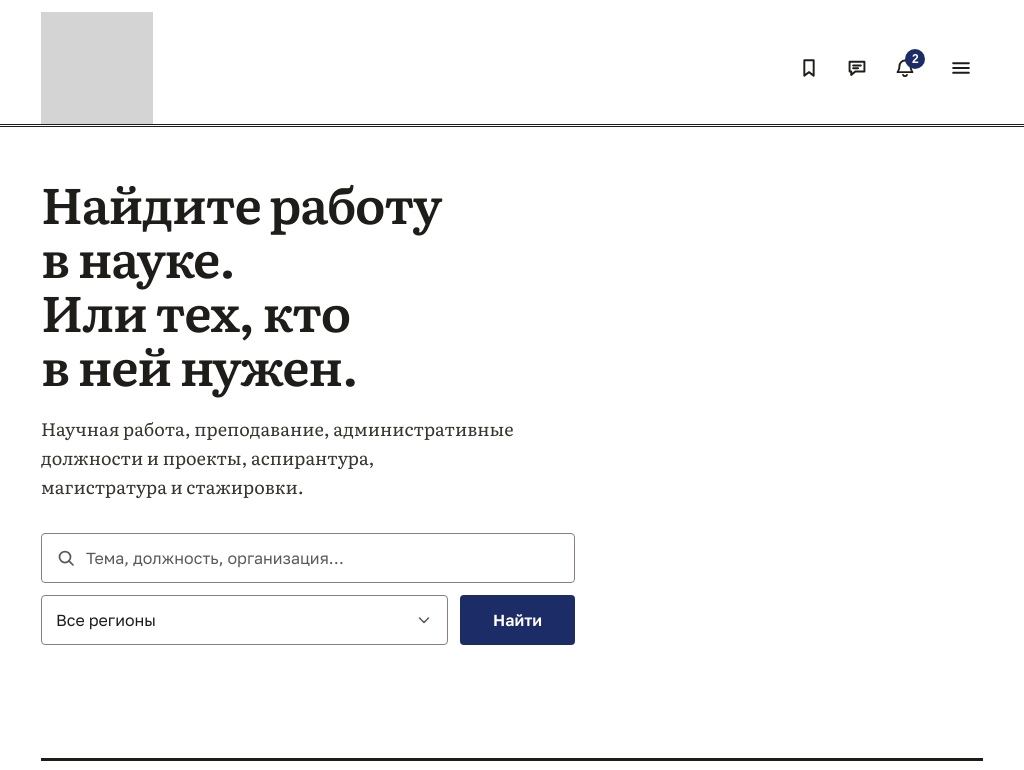
Scenario: bell in the header › reports a failed load inside the panel
Click the button named "непрочитанных" at (905, 68), box x1=883 y1=46 x2=927 y2=90
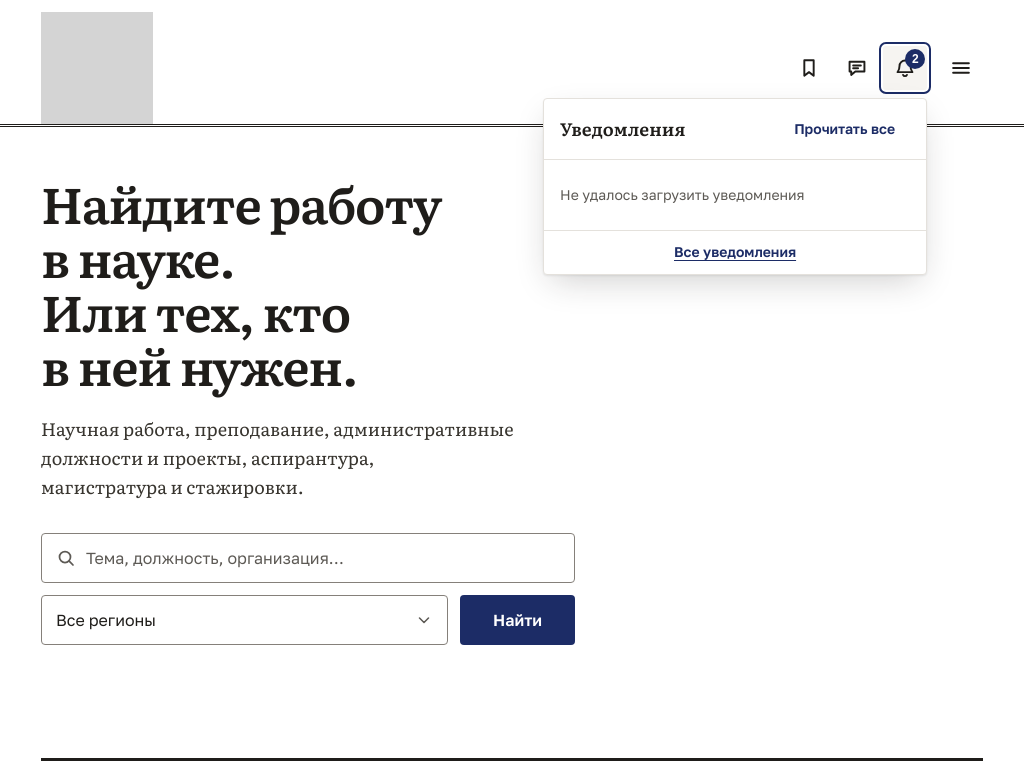
Expected: the text "Не удалось загрузить уведомления" is shown, x1=560 y1=186 x2=804 y2=203
